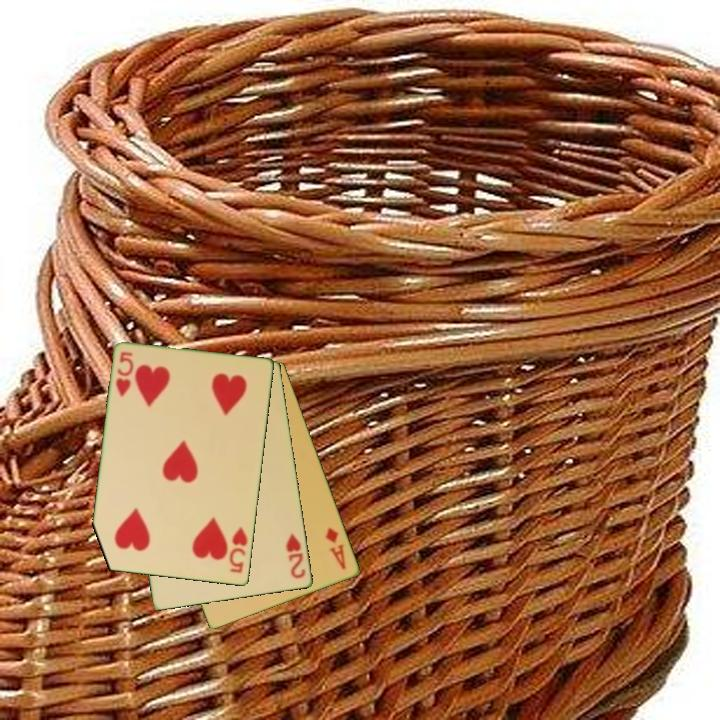2h: (283, 530, 309, 582)
5h: (226, 524, 251, 576), (113, 349, 137, 400)
Ad: (322, 524, 349, 573)
